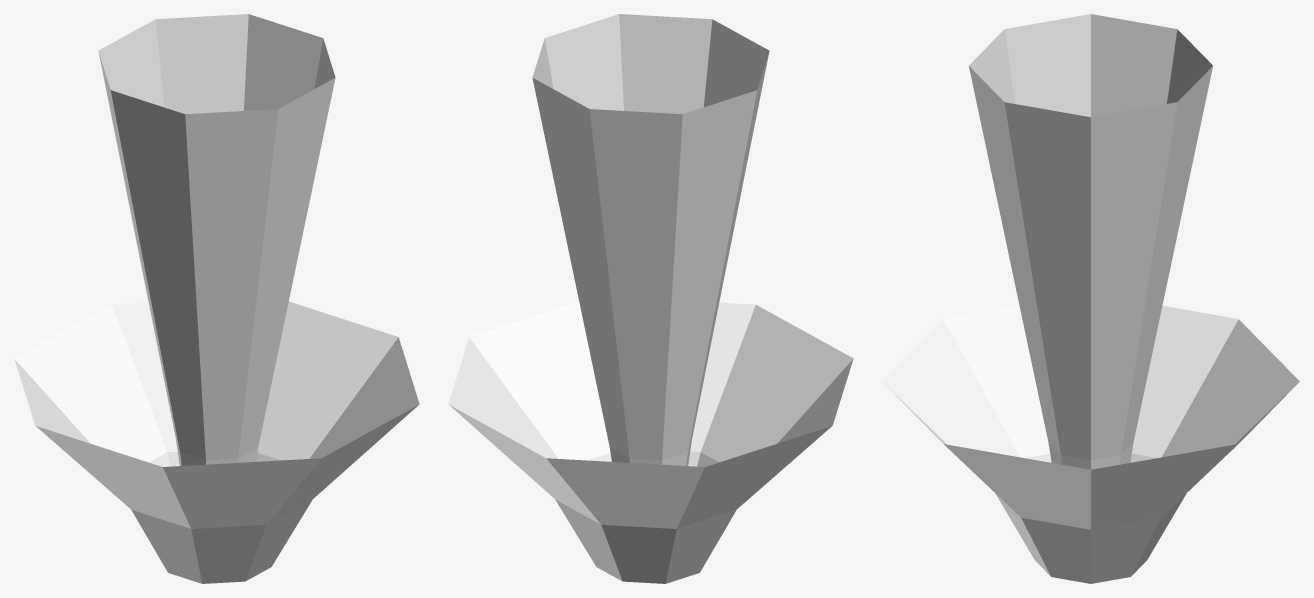
Rendered from Effect_RainDrop.fbx.
The picture shows the model from 3 angles, left to right: view 1: azimuth 30°, elevation 25°; view 2: azimuth 150°, elevation 25°; view 3: azimuth 270°, elevation 25°; orthographic projection.
Visible parts, largest first — view 1: SM_RainDrop.mo; view 2: SM_RainDrop.mo; view 3: SM_RainDrop.mo.
Part boxes in pixels (x1=…): SM_RainDrop.mo: x1=14, y1=14, x2=419, y2=583; SM_RainDrop.mo: x1=448, y1=14, x2=853, y2=583; SM_RainDrop.mo: x1=882, y1=14, x2=1299, y2=583.
Bounding box in the file's own units: 34.47 × 45.03 × 34.47.
